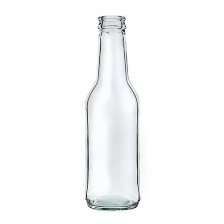bottle: (83, 8, 146, 212)
